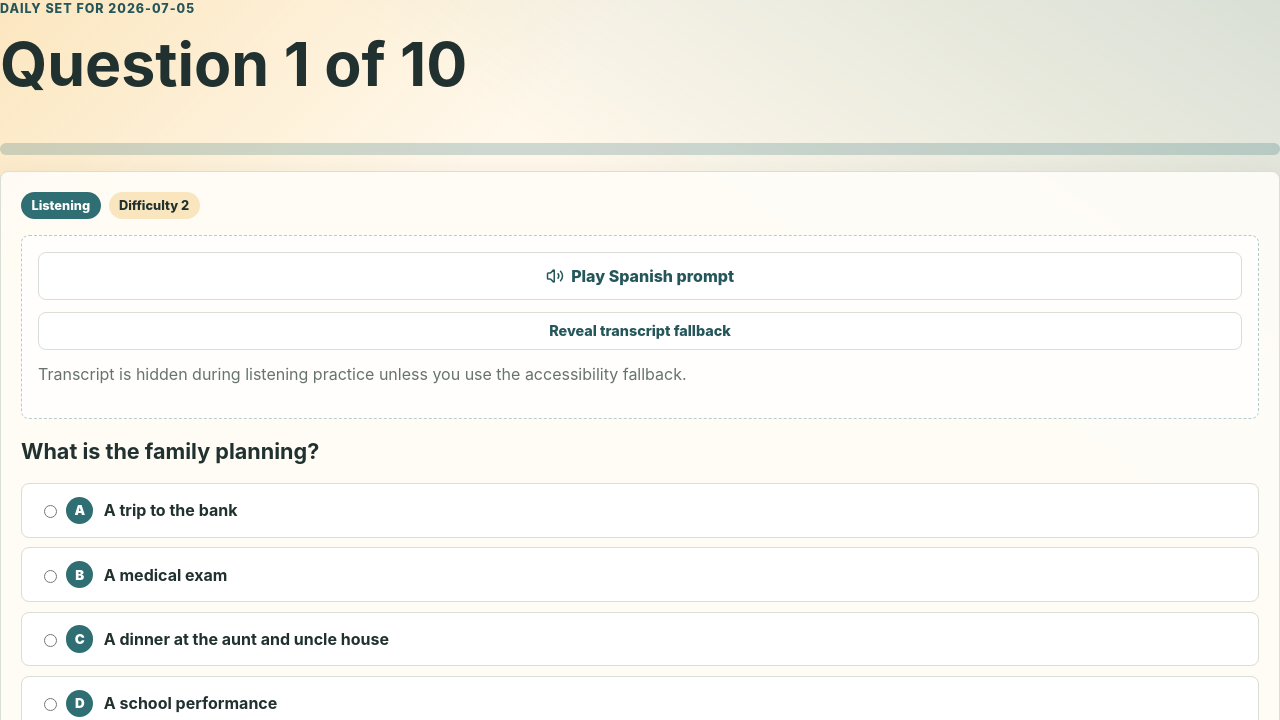
it: app smoke › daily quiz shows one question at a time and reveals explanations after submit
Check: the heading "Question 1 of 10" is shown, box [0,27,467,101]
Click the radio button labelled "A A trip to the bank" at (50, 512), box [40,505,61,518]
(page scrolled)
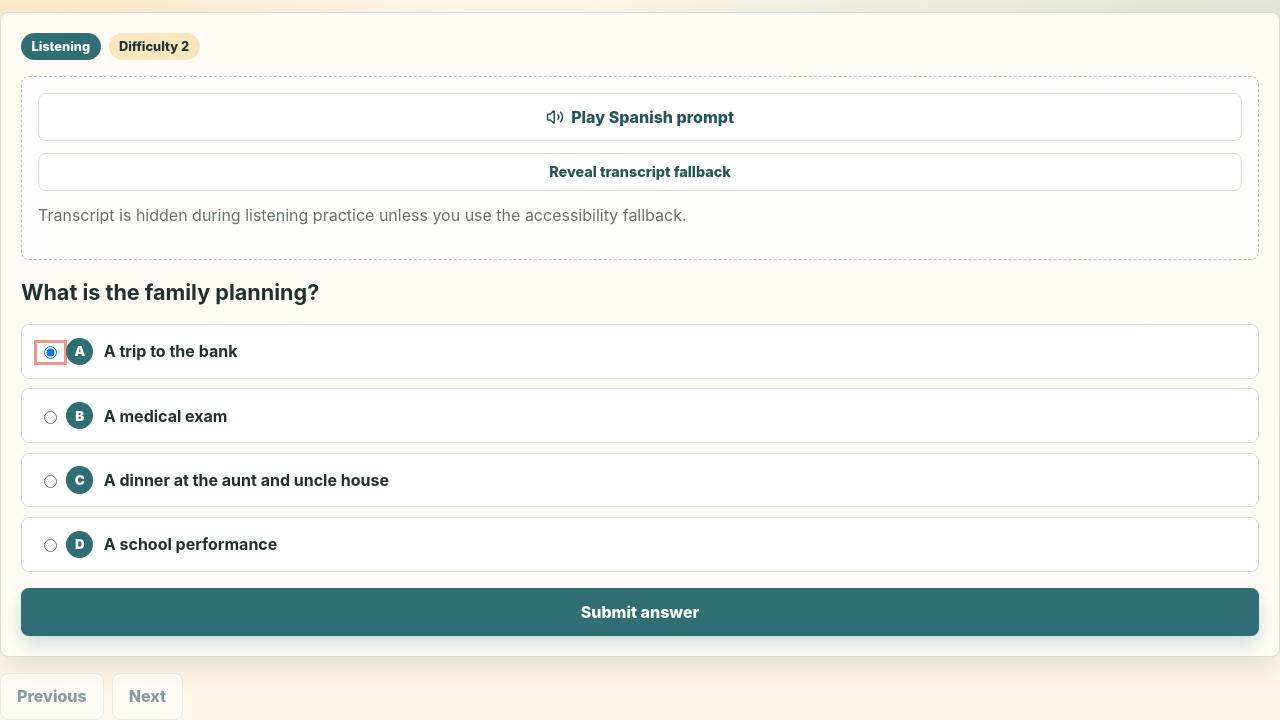
Click the button "Submit answer" at (640, 612), box [21,588,1259,636]
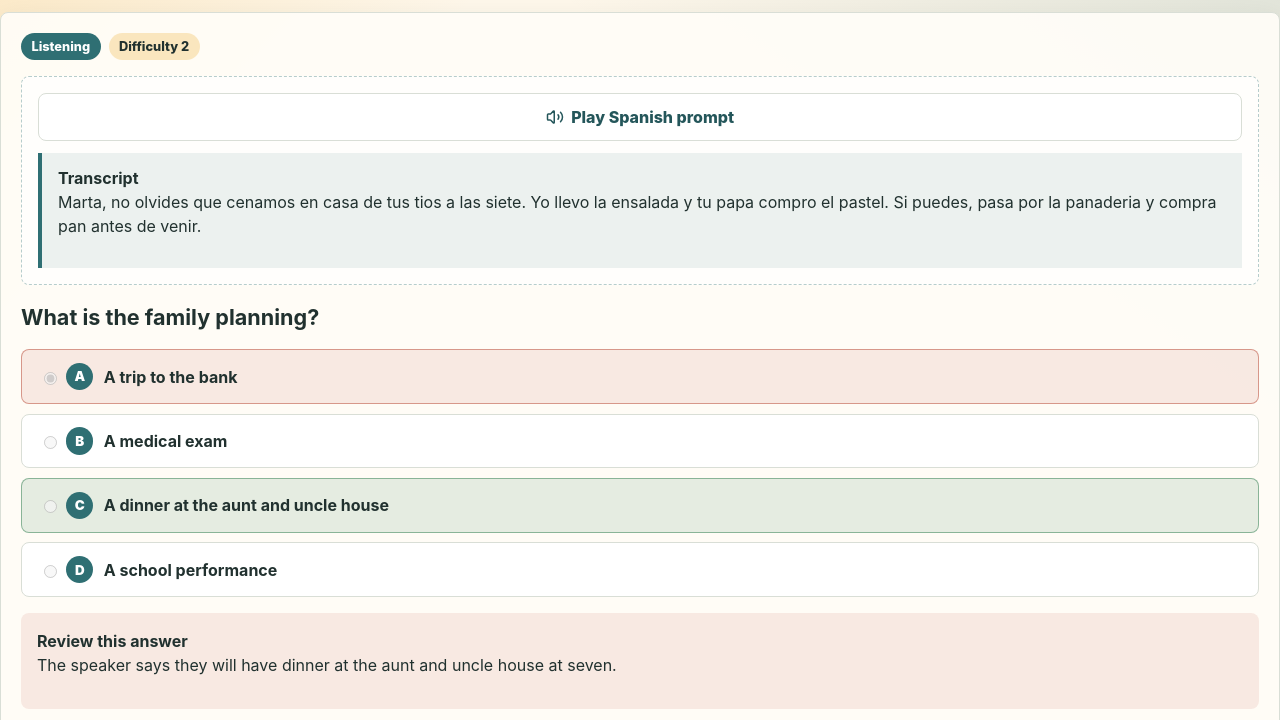
Check: the text "Review this answer" is shown, box [37,631,188,651]
